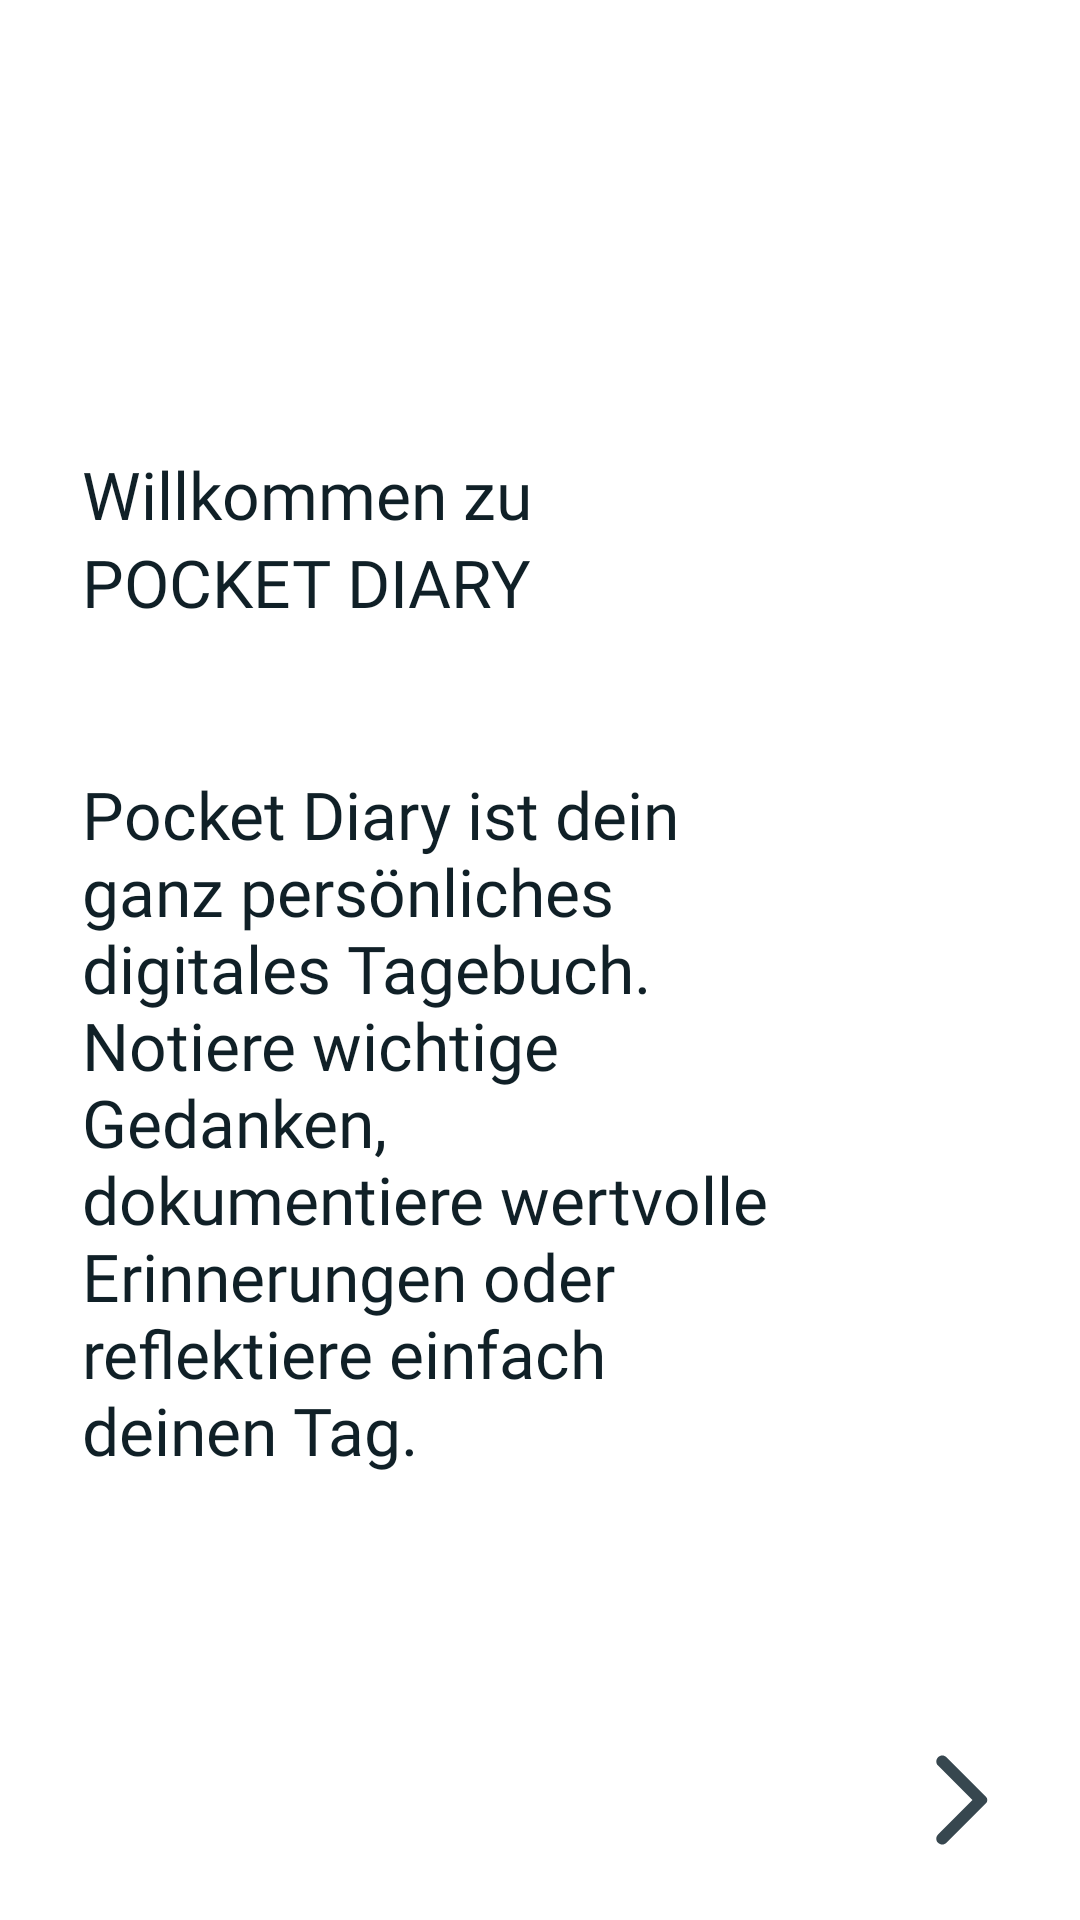

Screen size 1080px×1920px. Icon name, then its center in pixels as (x=x, y=y):
weiter: (x=962, y=1800)
